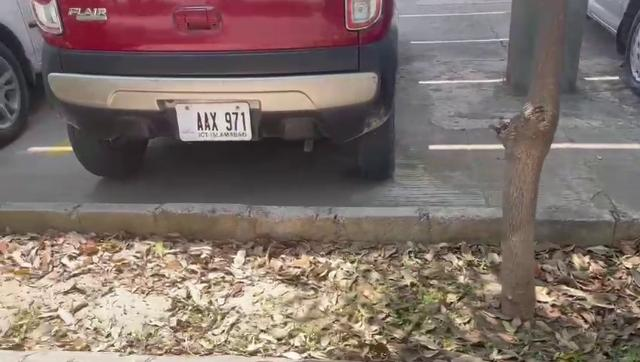plate: (175, 102, 253, 142)
